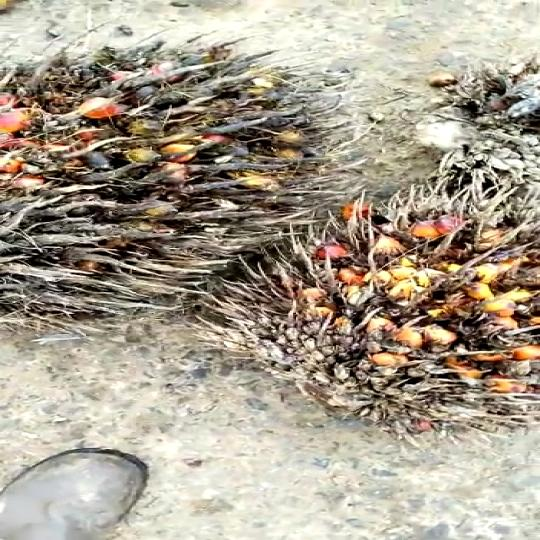terlalu masak: (0, 35, 353, 319), (219, 152, 540, 413)
